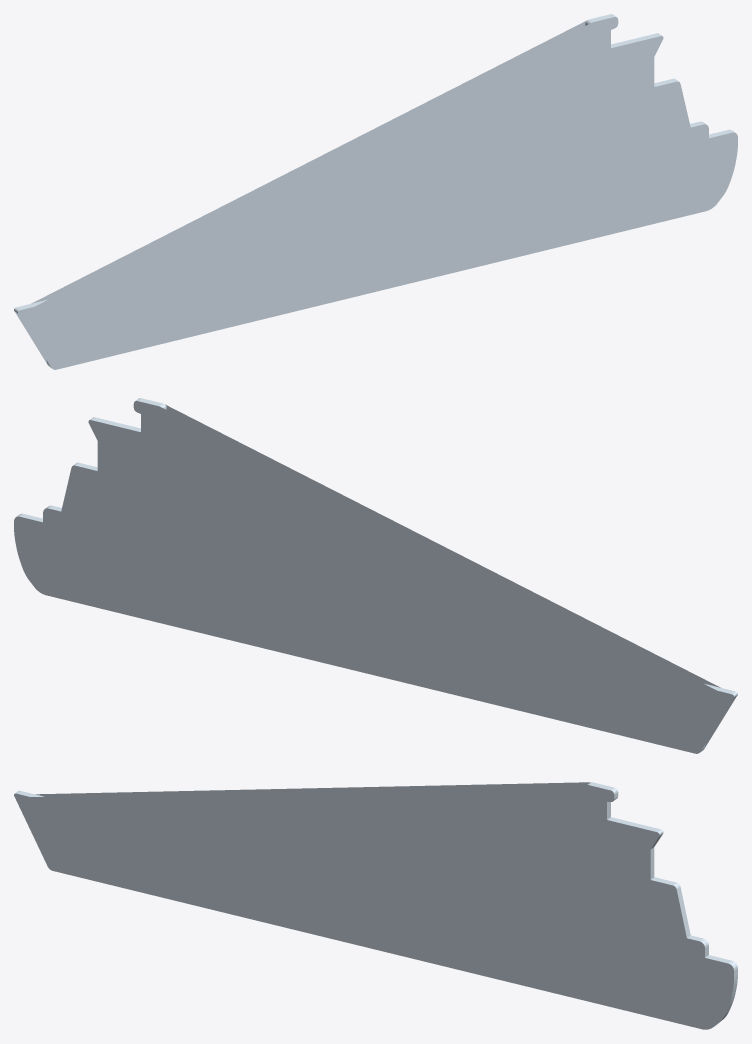
Rendered from Boat_3D_Icon_02.fbx.
The picture shows the model from 3 angles, top to bottom: view 1: azimuth 30°, elevation 25°; view 2: azimuth 150°, elevation 25°; view 3: azimuth 330°, elevation 25°; orthographic projection.
Visible parts, largest first — view 1: Boat_3D_Icon_03; view 2: Boat_3D_Icon_03; view 3: Boat_3D_Icon_03.
Boxes of the visible parts, left/top/right/bottom form: Boat_3D_Icon_03: left=14, top=14, right=737, bottom=369; Boat_3D_Icon_03: left=14, top=398, right=737, bottom=753; Boat_3D_Icon_03: left=14, top=782, right=737, bottom=1029.
Size of the model in its own units: 214 by 61.56 by 2.
